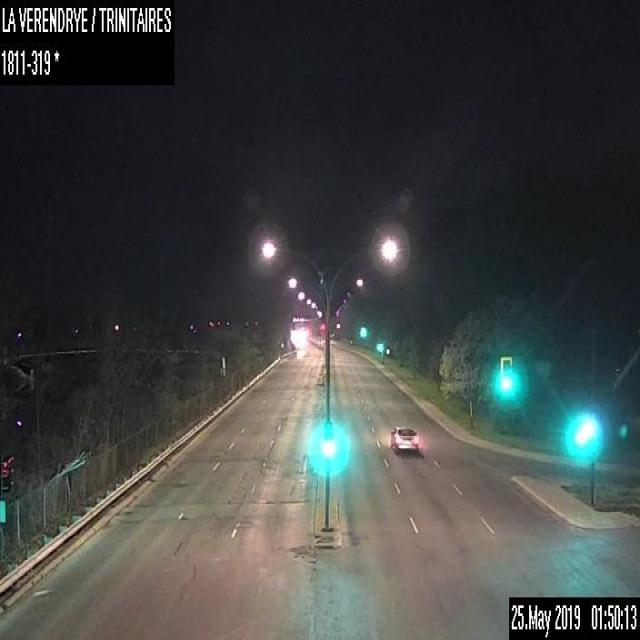vehicle: (390, 423, 417, 452)
